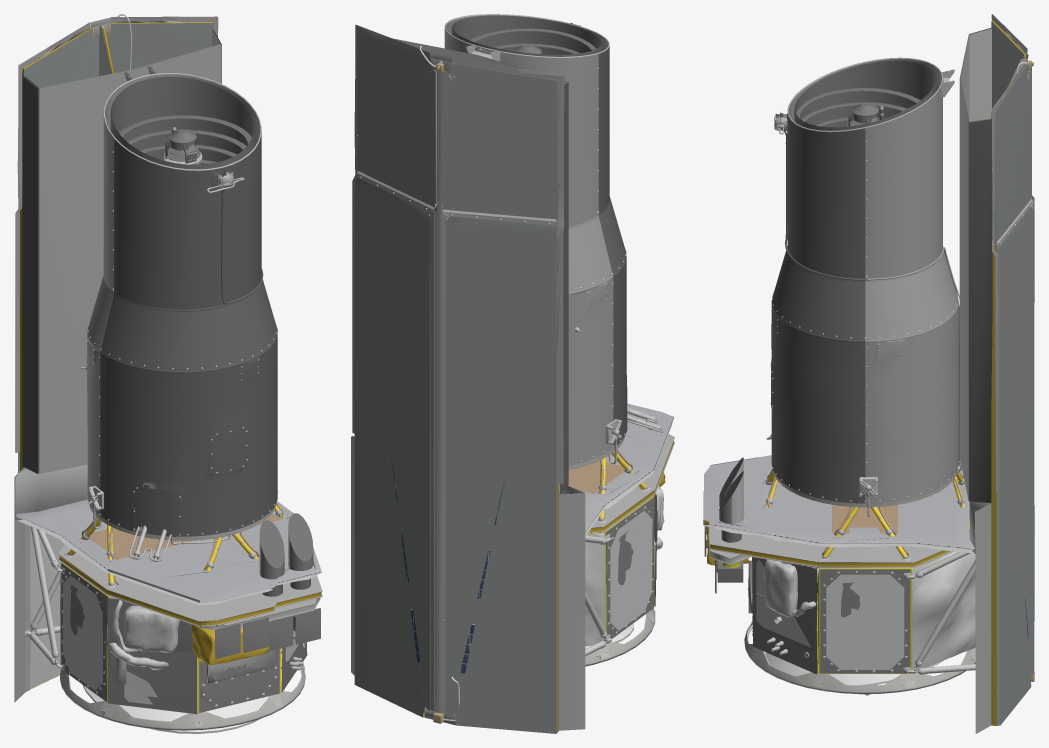
Rendered from spitzer.glb.
3 views of the same model, side by side, from view 1: azimuth 30°, elevation 25°; view 2: azimuth 150°, elevation 25°; view 3: azimuth 270°, elevation 25° (orthographic). The views are drawn at different scales.
Parts seen in each view (by area): view 1: Fake; view 2: Fake; view 3: Fake.
Boxes of the visible parts, x1,y1,x2,y2 form: Fake: (14, 14, 322, 733); Fake: (351, 14, 674, 733); Fake: (703, 14, 1034, 733).
Bounding box in the file's own units: 1.62 × 4.49 × 2.11.
